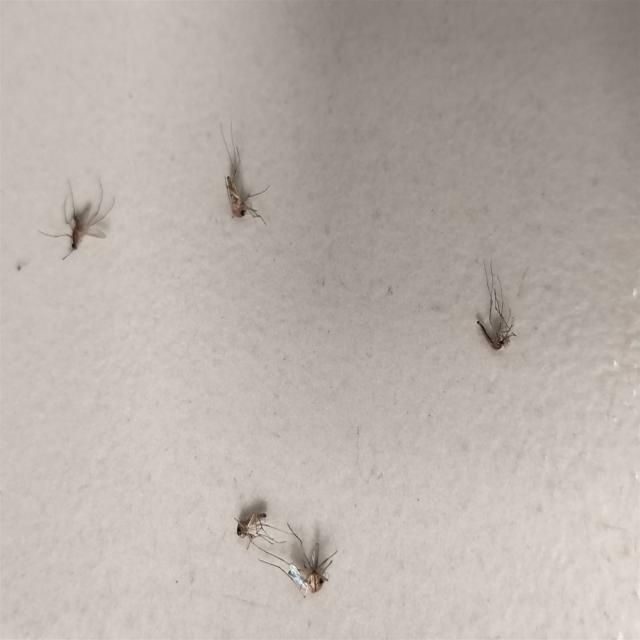Mosquito: (191, 129, 283, 251), (458, 267, 540, 369), (278, 531, 342, 618), (60, 168, 116, 266), (220, 481, 277, 569)
